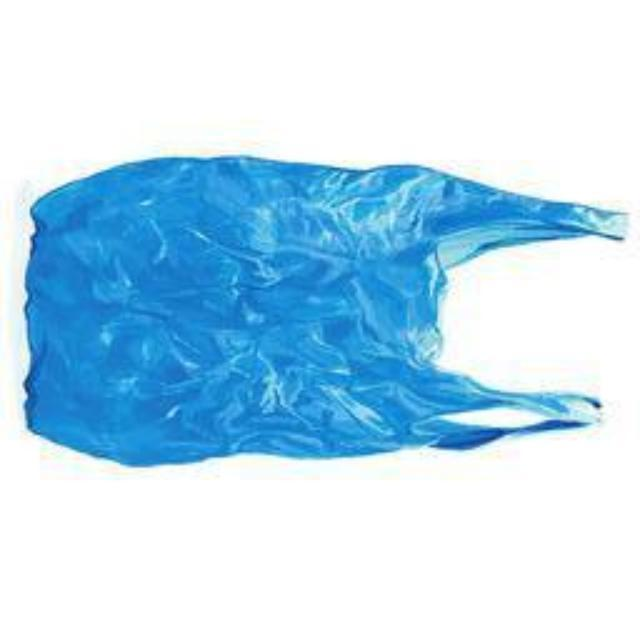Bolsa-de-nilon: (18, 157, 622, 460)
